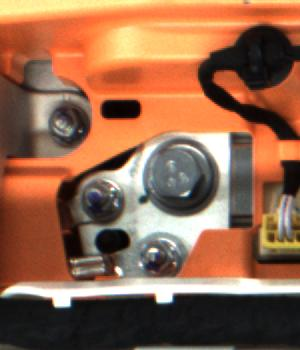nut_b: (138, 136, 229, 218)
screw_s: (77, 175, 118, 213), (138, 240, 182, 275), (49, 107, 86, 148)
